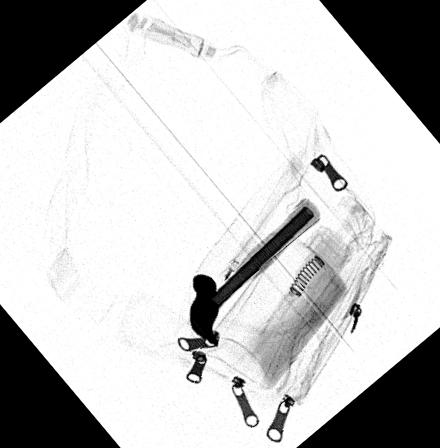Hammer: (188, 198, 320, 346)
